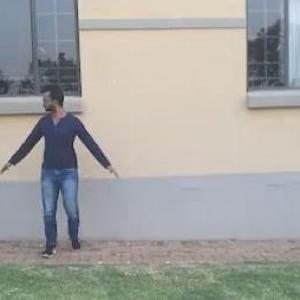land: (9, 78, 122, 267)
